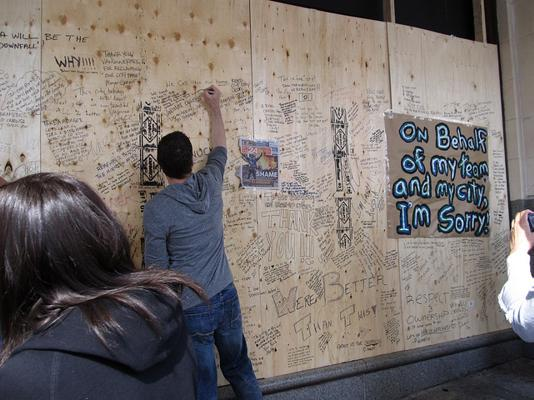person: (143, 85, 265, 400)
